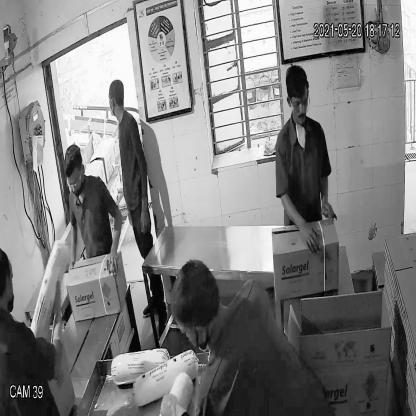goggles: (286, 91, 312, 117), (67, 170, 86, 192)
